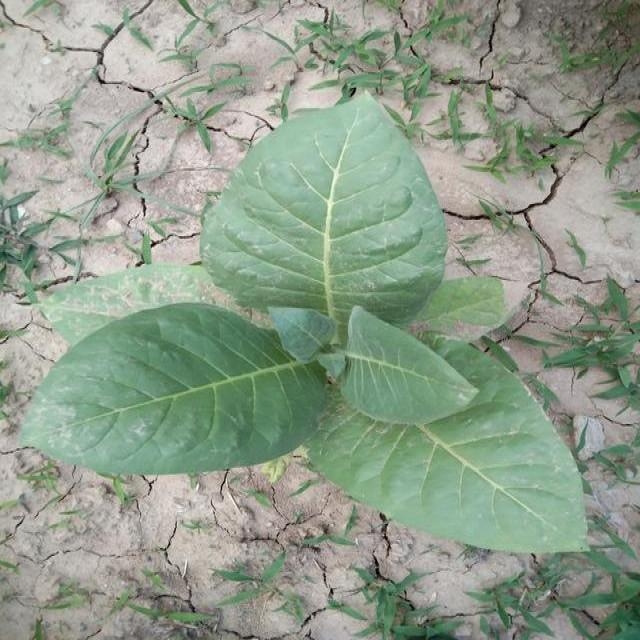crop: (19, 88, 599, 555)
